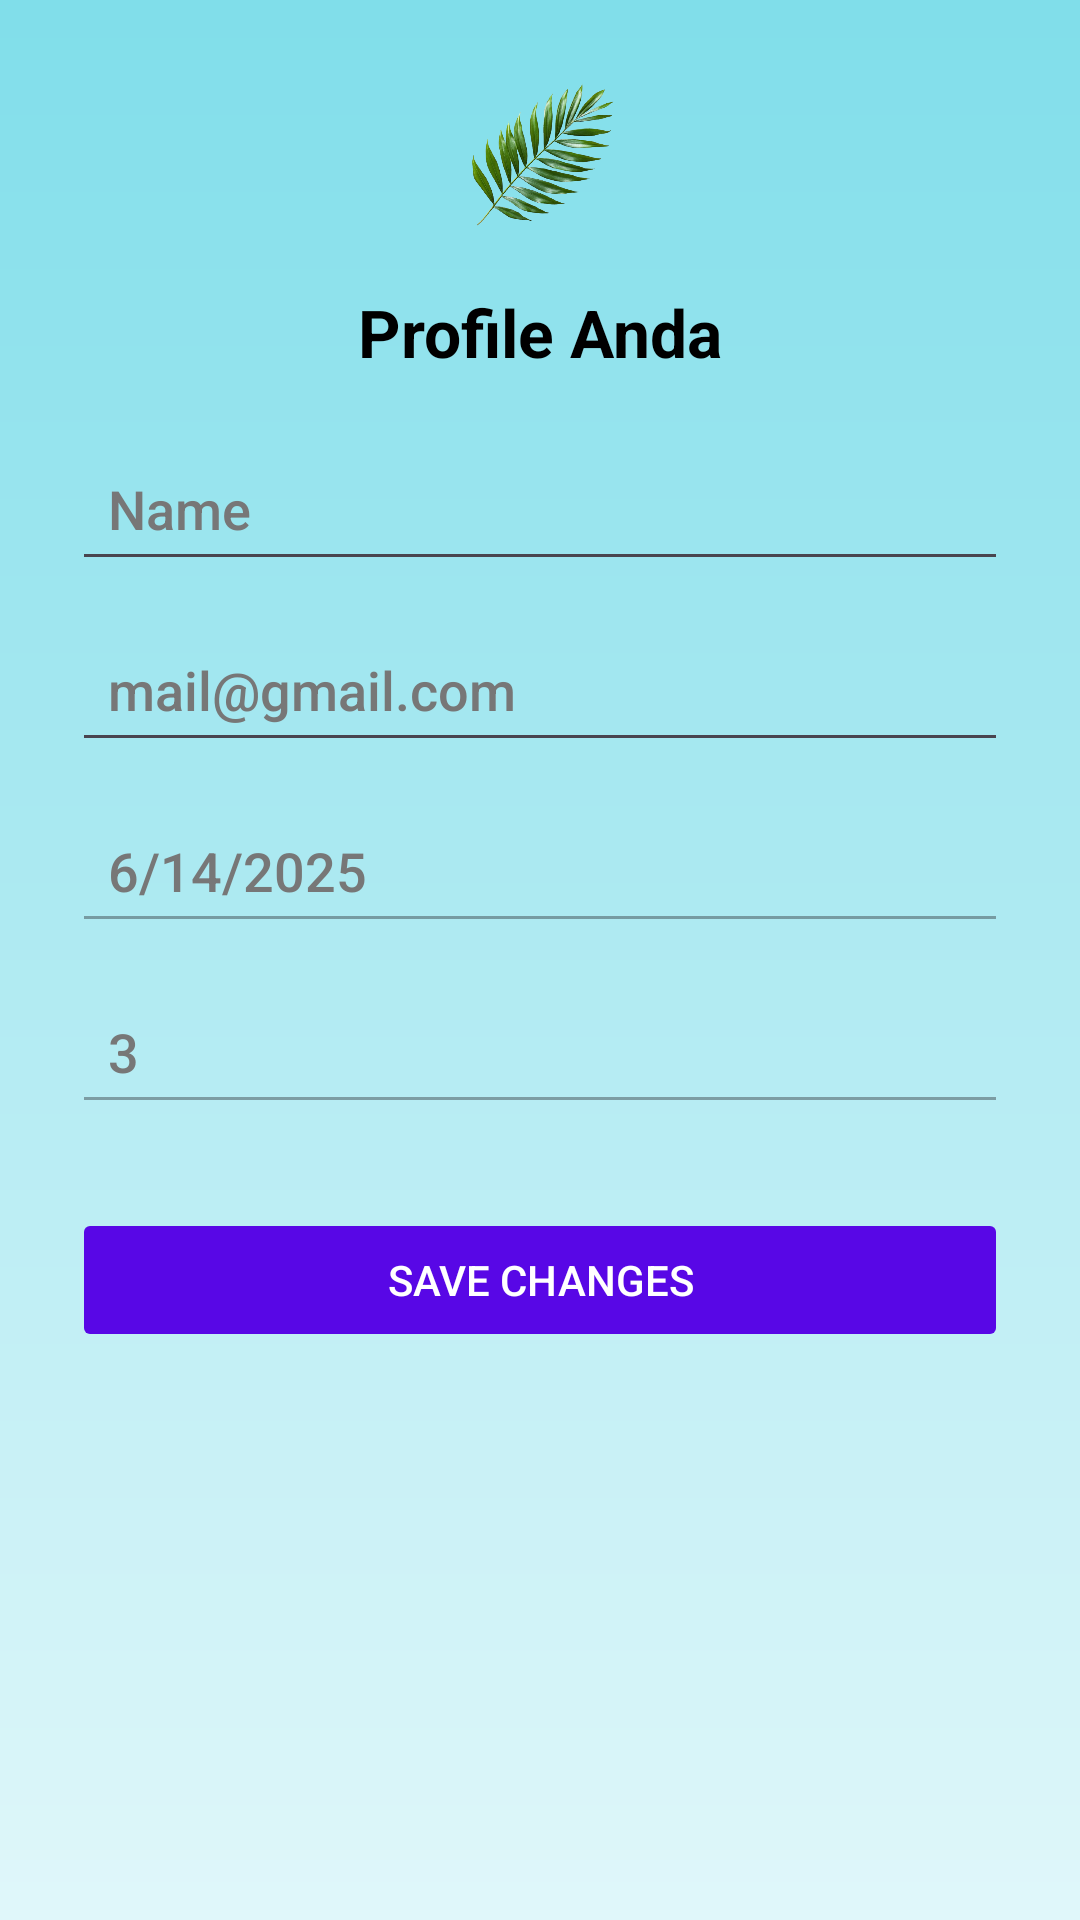

Screen size 1080w x 1920h. Icon name, then its box in pixels as (x1, y1, x2, y2):
leaf: (472, 84, 613, 225)
